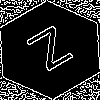Z: (25, 25, 82, 80)
